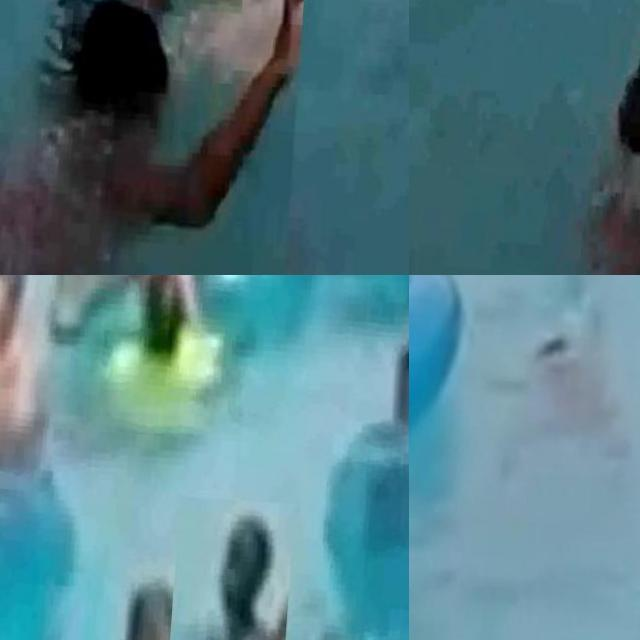drowning: (0, 0, 310, 275), (492, 279, 640, 493), (565, 0, 640, 275), (168, 496, 296, 640)
swimming: (93, 275, 242, 465), (329, 322, 409, 603), (0, 275, 75, 500), (81, 575, 209, 640)
